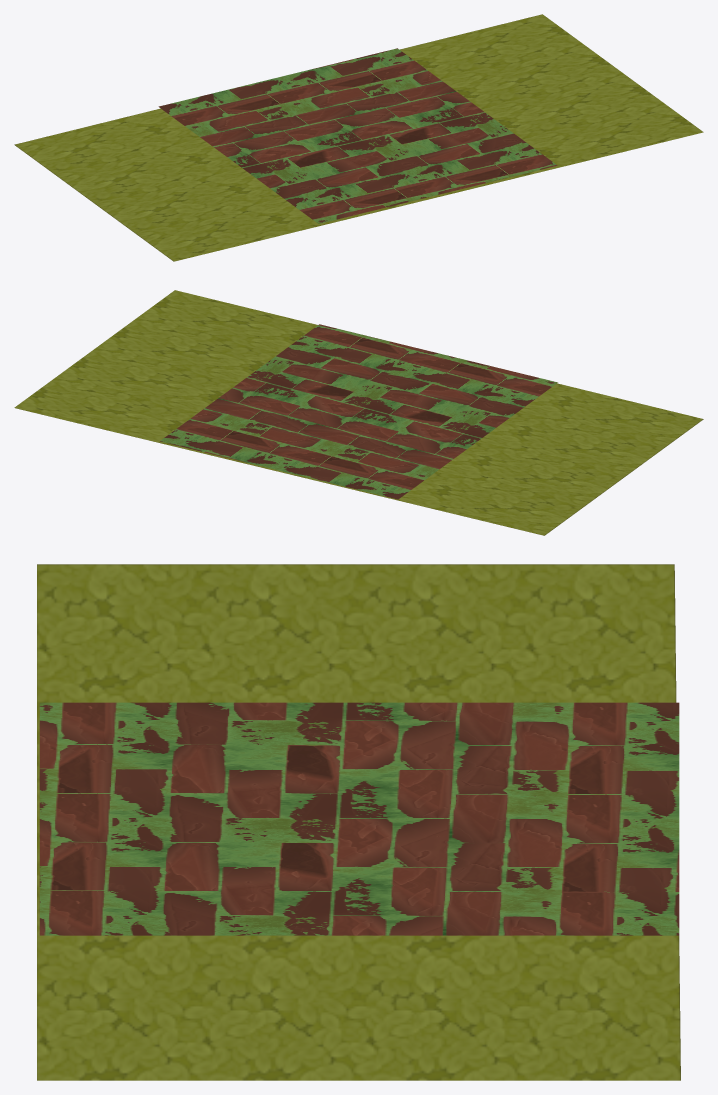
Rendered from ENGELZEMİN.fbx.
3 views of the same model, one above another, from view 1: azimuth 30°, elevation 25°; view 2: azimuth 150°, elevation 25°; view 3: azimuth 270°, elevation 25° (orthographic). The views are drawn at different scales.
Visible parts, largest first — view 1: zemin.001, Plane.001; view 2: zemin.001, Plane.001; view 3: zemin.001, Plane.001.
Boxes of the visible parts, <box> form: zemin.001: <box>14,14,703,261</box>; Plane.001: <box>158,48,557,223</box>; zemin.001: <box>14,290,703,535</box>; Plane.001: <box>160,324,557,499</box>; zemin.001: <box>37,564,680,1080</box>; Plane.001: <box>39,702,679,935</box>.
Bounding box in the file's own units: 907 × 2.83 × 478.
